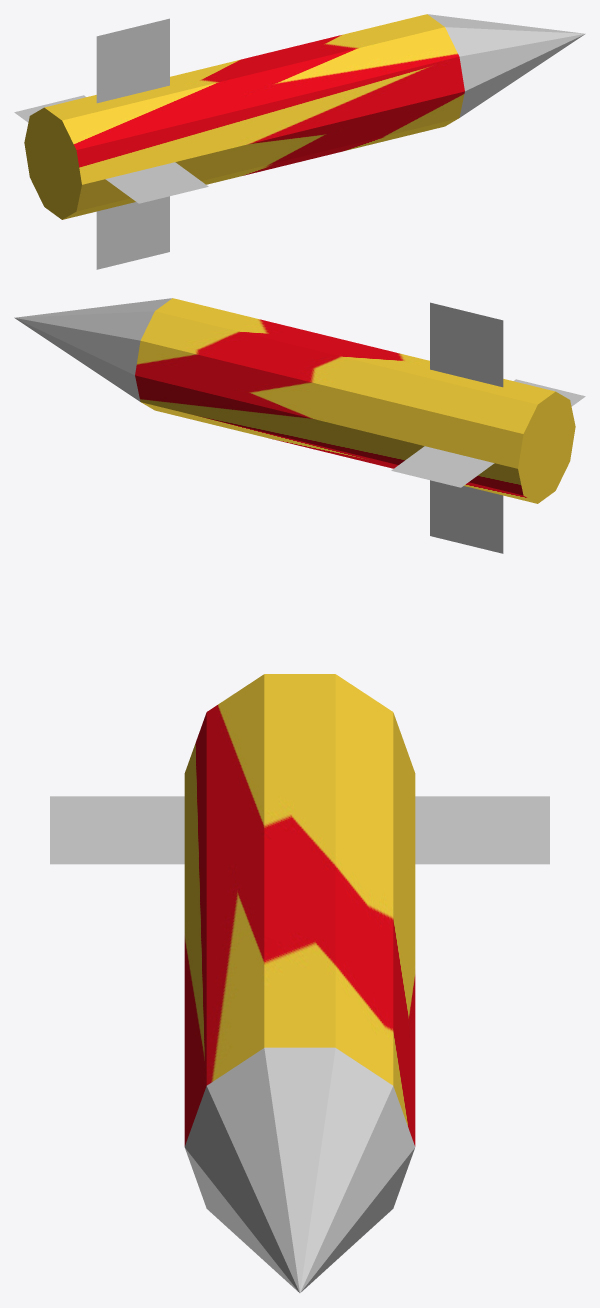
The model's file is msl.obj.
The picture shows the model from 3 angles, top to bottom: view 1: azimuth 30°, elevation 25°; view 2: azimuth 150°, elevation 25°; view 3: azimuth 270°, elevation 25°; orthographic projection. The views are drawn at different scales.
Visible parts, largest first — view 1: Cylinder, Plane.001_Plane.002, Cone, Plane_Plane.001; view 2: Cylinder, Plane.001_Plane.002, Cone, Plane_Plane.001; view 3: Cylinder, Cone, Plane_Plane.001.
Part boxes in pixels (bbox=[...]): Cylinder: bbox=[24, 14, 464, 219]; Plane.001_Plane.002: bbox=[96, 18, 169, 269]; Cone: bbox=[427, 14, 585, 117]; Plane_Plane.001: bbox=[14, 95, 208, 203]; Cylinder: bbox=[135, 298, 575, 503]; Plane.001_Plane.002: bbox=[430, 302, 503, 553]; Cone: bbox=[14, 298, 172, 401]; Plane_Plane.001: bbox=[391, 379, 585, 487]; Cylinder: bbox=[184, 674, 415, 1146]; Cone: bbox=[184, 1047, 415, 1292]; Plane_Plane.001: bbox=[50, 796, 549, 864].
Size of the model in its own units: 320 by 134 by 130.
